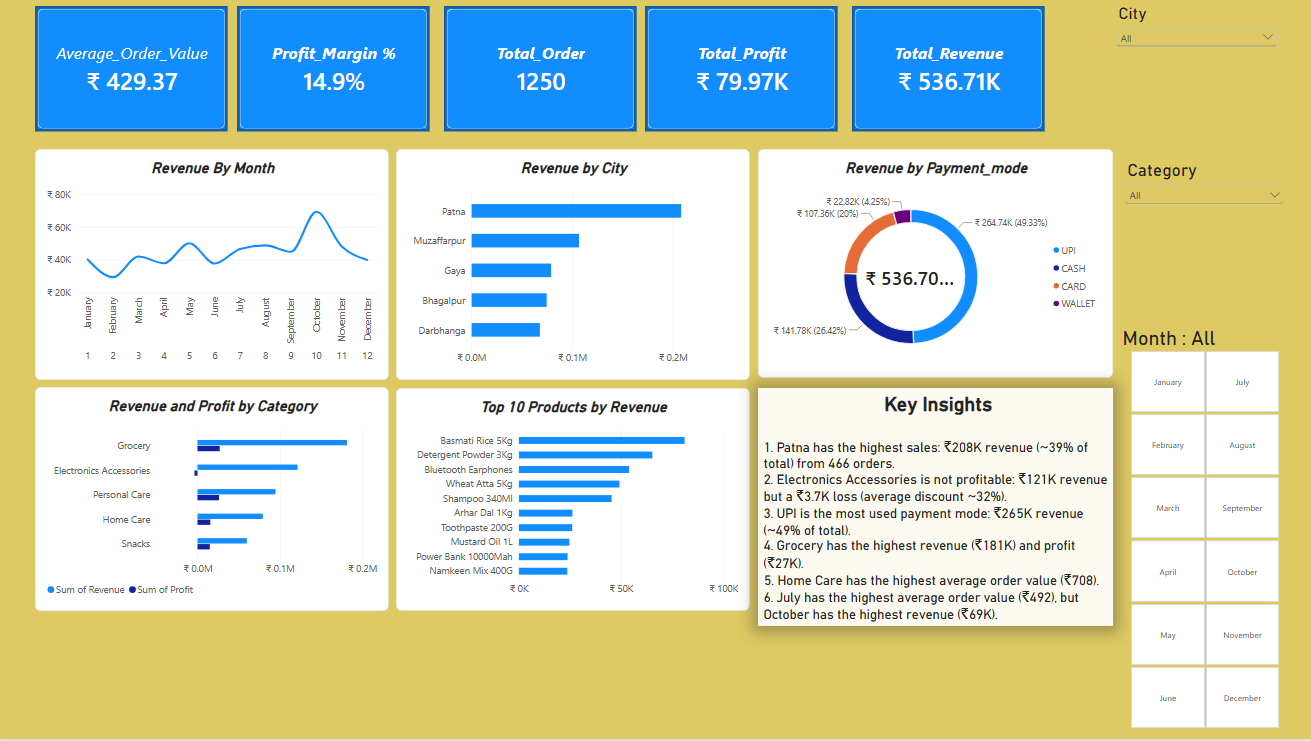

The page's visual inventory and layout, read from the dashboard file:
{"tool":"powerbi","page":{"name":"Page 1","canvas":[1920,1080],"ordinal":0},"visuals":[{"type":"cardVisual","fields":{"Data":["shopeasy_sales_2025.Average_Order_Value"]},"box":[52.5,10.2,281.6,183.8],"z":0},{"type":"cardVisual","fields":{"Data":["shopeasy_sales_2025.Profit_Margin %"]},"box":[347.2,10.2,281.6,183.8],"z":1000},{"type":"cardVisual","fields":{"Data":["shopeasy_sales_2025.Total_Order"]},"box":[649.2,10.2,281.6,183.8],"z":2000},{"type":"cardVisual","fields":{"Data":["shopeasy_sales_2025.Total_Profit"]},"box":[942.5,10.2,281.6,183.8],"z":3000},{"type":"cardVisual","fields":{"Data":["shopeasy_sales_2025.Total_Revenue"]},"box":[1244.5,10.2,281.6,183.8],"z":4000},{"type":"lineChart","title":"Revenue By Month","fields":{"Category":["shopeasy_sales_2025.Month","shopeasy_sales_2025.Month name"],"Y":["Sum(shopeasy_sales_2025.Revenue)"]},"box":[52.5,218.8,516.5,337],"z":5000},{"type":"clusteredBarChart","title":"Revenue and Profit by Category","fields":{"Category":["shopeasy_sales_2025.category"],"Y":["Sum(shopeasy_sales_2025.Revenue)","Sum(shopeasy_sales_2025.Profit)"]},"box":[52.5,566.1,516.5,326.8],"z":6000},{"type":"barChart","title":"Revenue by City","fields":{"Category":["shopeasy_sales_2025.city"],"Y":["Sum(shopeasy_sales_2025.Revenue)"]},"box":[579.2,218.8,516.5,337],"z":7000},{"type":"barChart","title":"Top 10 Products by Revenue","fields":{"Category":["shopeasy_sales_2025.product"],"Y":["Sum(shopeasy_sales_2025.Revenue)"]},"box":[579.2,567.5,516.5,325.3],"z":8000},{"type":"donutChart","title":"Revenue by Payment_mode","fields":{"Category":["shopeasy_sales_2025.payment_mode"],"Y":["Sum(shopeasy_sales_2025.Revenue)"]},"box":[1107.4,218.8,517.9,334.1],"z":9000},{"type":"slicer","fields":{"Values":["shopeasy_sales_2025.city"]},"box":[1625.3,7.3,243.6,211.6],"z":10000},{"type":"slicer","fields":{"Values":["shopeasy_sales_2025.Month name"]},"box":[1631.1,477.1,255.3,588],"z":11000},{"type":"slicer","fields":{"Values":["shopeasy_sales_2025.category"]},"box":[1638.4,234.9,240.7,256.8],"z":12000},{"type":"textbox","title":"Key Insights","box":[1107.4,567.5,517.9,347.2],"z":13000}]}

Visuals, with their boxes in screenshot pixels (x1, y1, x2, y2), scaled from the page's 1920x1080 canvas onto the 1311x741 screenshot:
cardVisual - shopeasy_sales_2025.Average_Order_Value: (left=36, top=7, right=228, bottom=133)
cardVisual - shopeasy_sales_2025.Profit_Margin %: (left=237, top=7, right=429, bottom=133)
cardVisual - shopeasy_sales_2025.Total_Order: (left=443, top=7, right=636, bottom=133)
cardVisual - shopeasy_sales_2025.Total_Profit: (left=644, top=7, right=836, bottom=133)
cardVisual - shopeasy_sales_2025.Total_Revenue: (left=850, top=7, right=1042, bottom=133)
"Revenue By Month" lineChart: (left=36, top=150, right=389, bottom=381)
"Revenue and Profit by Category" clusteredBarChart: (left=36, top=388, right=389, bottom=613)
"Revenue by City" barChart: (left=395, top=150, right=748, bottom=381)
"Top 10 Products by Revenue" barChart: (left=395, top=389, right=748, bottom=613)
"Revenue by Payment_mode" donutChart: (left=756, top=150, right=1110, bottom=379)
slicer - shopeasy_sales_2025.city: (left=1110, top=5, right=1276, bottom=150)
slicer - shopeasy_sales_2025.Month name: (left=1114, top=327, right=1288, bottom=731)
slicer - shopeasy_sales_2025.category: (left=1119, top=161, right=1283, bottom=337)
"Key Insights" textbox: (left=756, top=389, right=1110, bottom=628)
